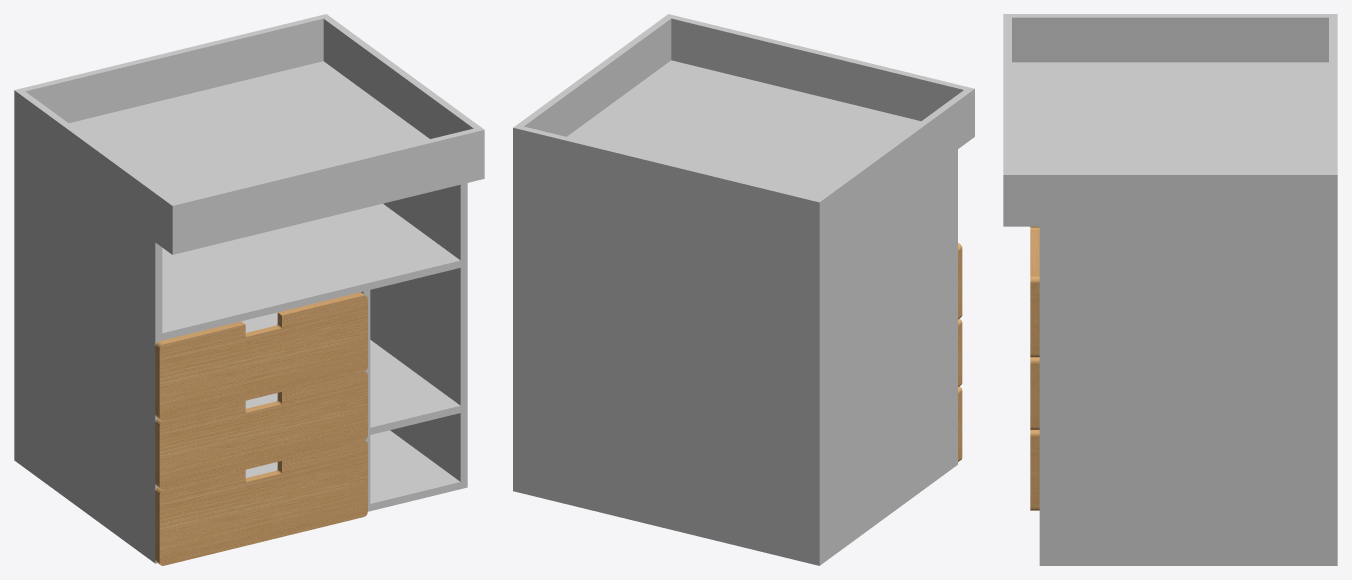
Rendered from STUVA_Changing_Table_with_3_Drawers.obj.
The picture shows the model from 3 angles, left to right: view 1: azimuth 30°, elevation 25°; view 2: azimuth 150°, elevation 25°; view 3: azimuth 270°, elevation 25°; orthographic projection. The views are drawn at different scales.
Parts seen in each view (by area): view 1: Furniture; view 2: Furniture; view 3: Furniture.
Part boxes in pixels (left/top/right/bottom): Furniture: left=14, top=14, right=484, bottom=565; Furniture: left=513, top=14, right=974, bottom=565; Furniture: left=1003, top=14, right=1337, bottom=565.
Size of the model in its own units: 900 by 1020 by 790.
